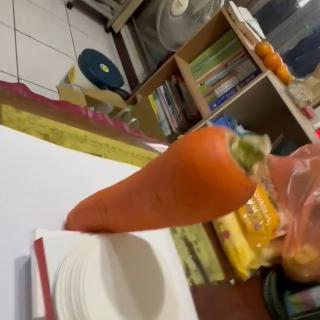carrot: (64, 125, 268, 233)
